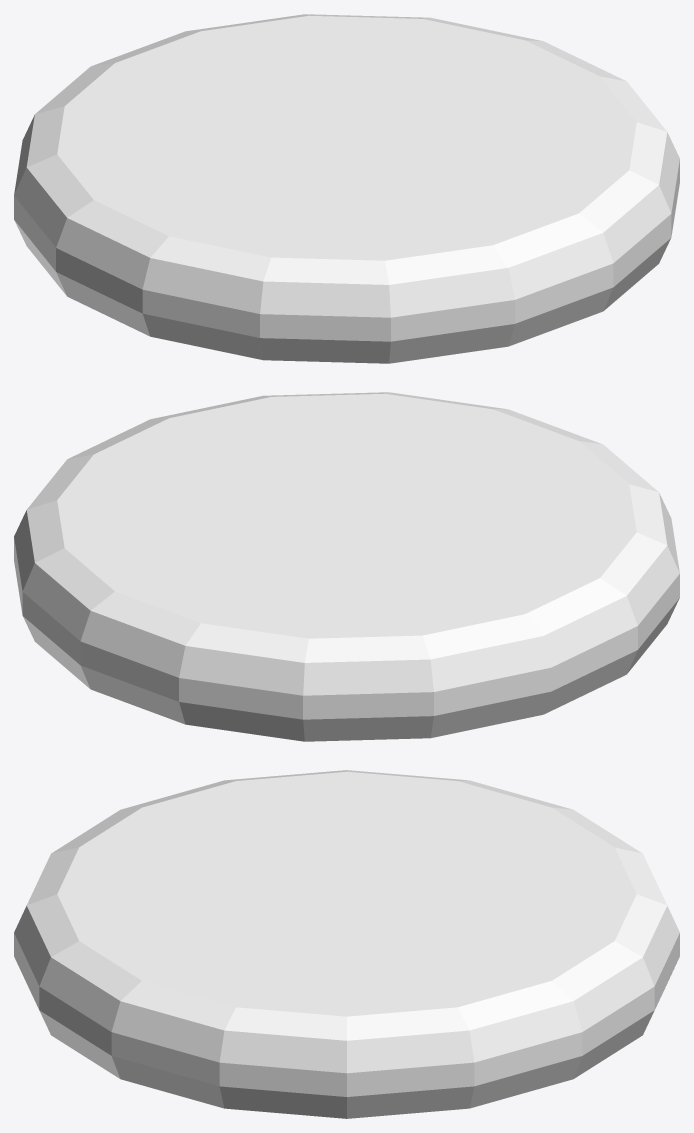
File: Pastille.glb
3 renders of one model, top to bottom at view 1: azimuth 30°, elevation 25°; view 2: azimuth 150°, elevation 25°; view 3: azimuth 270°, elevation 25°, orthographic.
Visible parts, largest first — view 1: Pastille; view 2: Pastille; view 3: Pastille.
Part boxes in pixels (x1,y1,x2,y2): Pastille: (14, 14, 679, 363); Pastille: (14, 392, 679, 741); Pastille: (14, 770, 679, 1118).
Size of the model in its own units: 0.6 by 0.1 by 0.6.
1 material, 1 textured.
